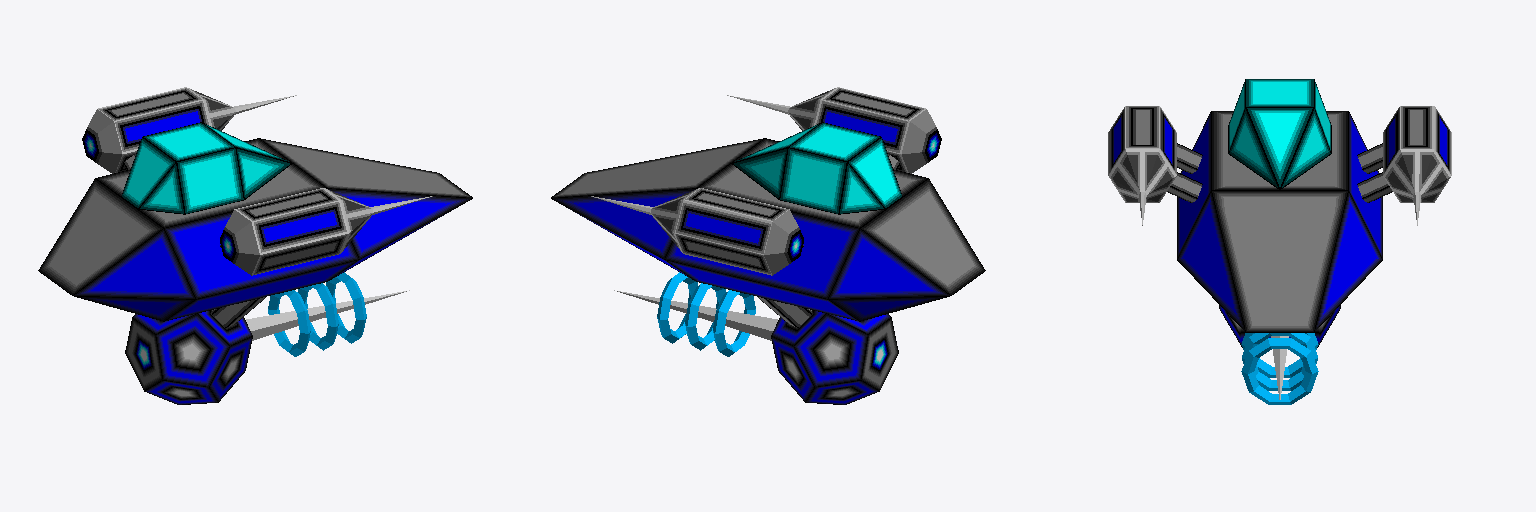
The picture shows the model from 3 angles: view 1: azimuth 30°, elevation 25°; view 2: azimuth 150°, elevation 25°; view 3: azimuth 270°, elevation 25°; orthographic projection.
Bounding box in the file's own units: 2.7 × 1.68 × 2.
Materials: 3 (1 with a texture image).